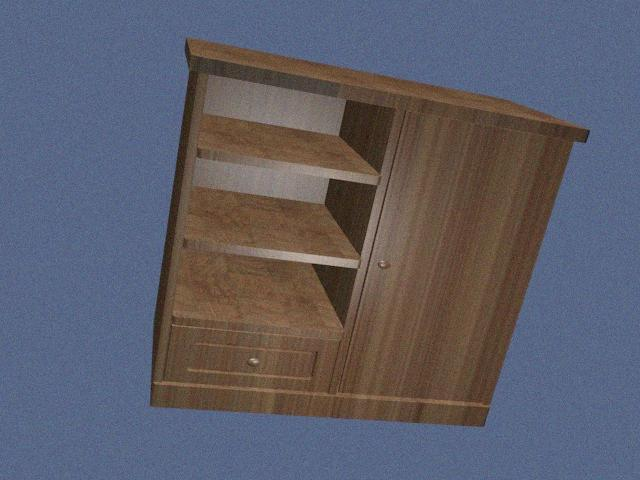cabinet_door: (372, 124, 524, 398), (168, 332, 336, 386)
handle: (374, 258, 394, 274), (245, 354, 263, 370)
